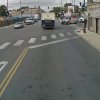crosswalk: (0, 31, 71, 49)
